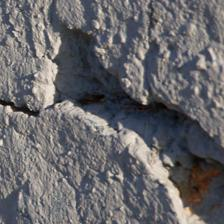Crack: (0, 56, 55, 165), (31, 71, 62, 224)
